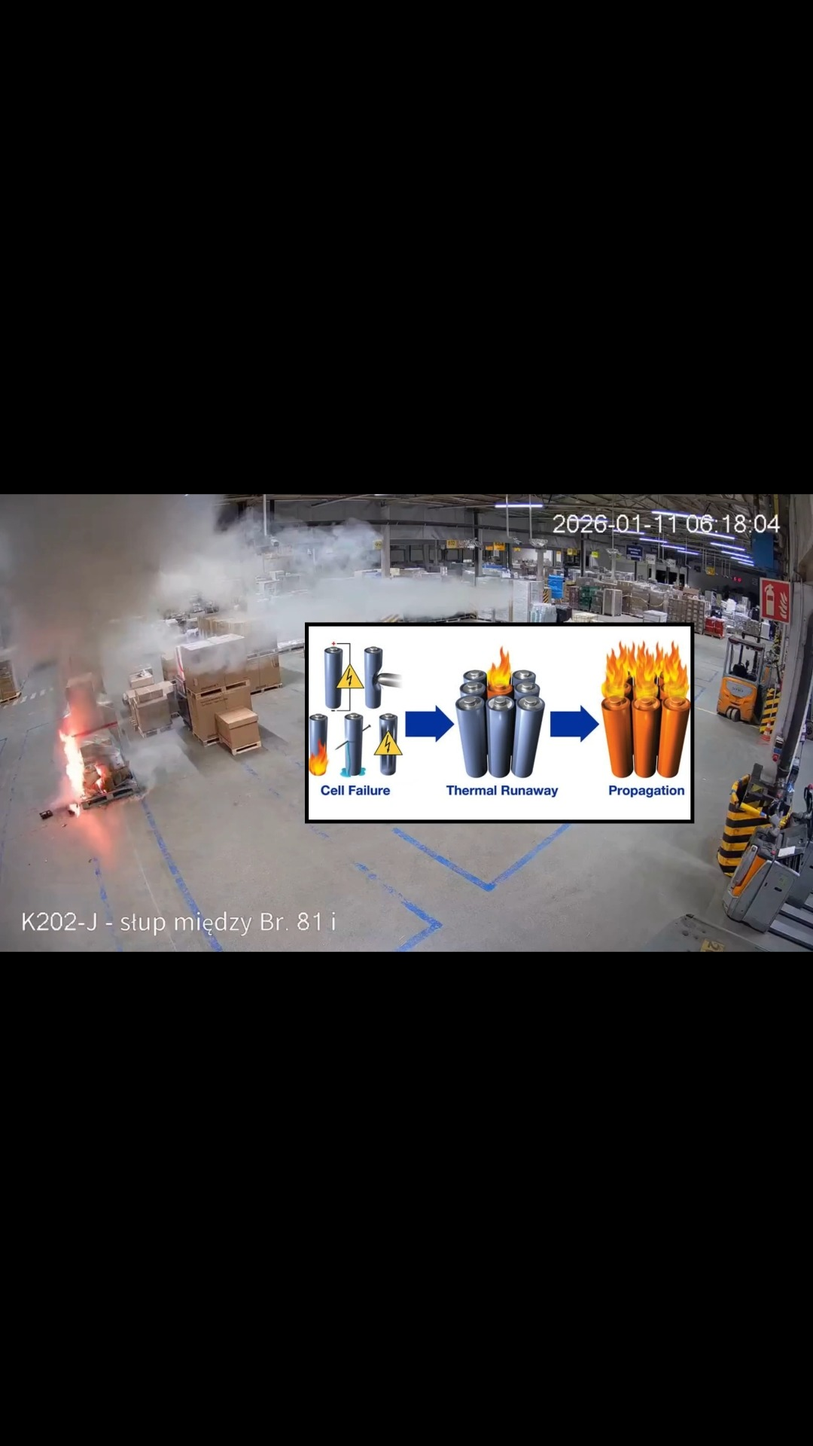fire: (57, 703, 111, 816)
smoke: (0, 495, 492, 734)
